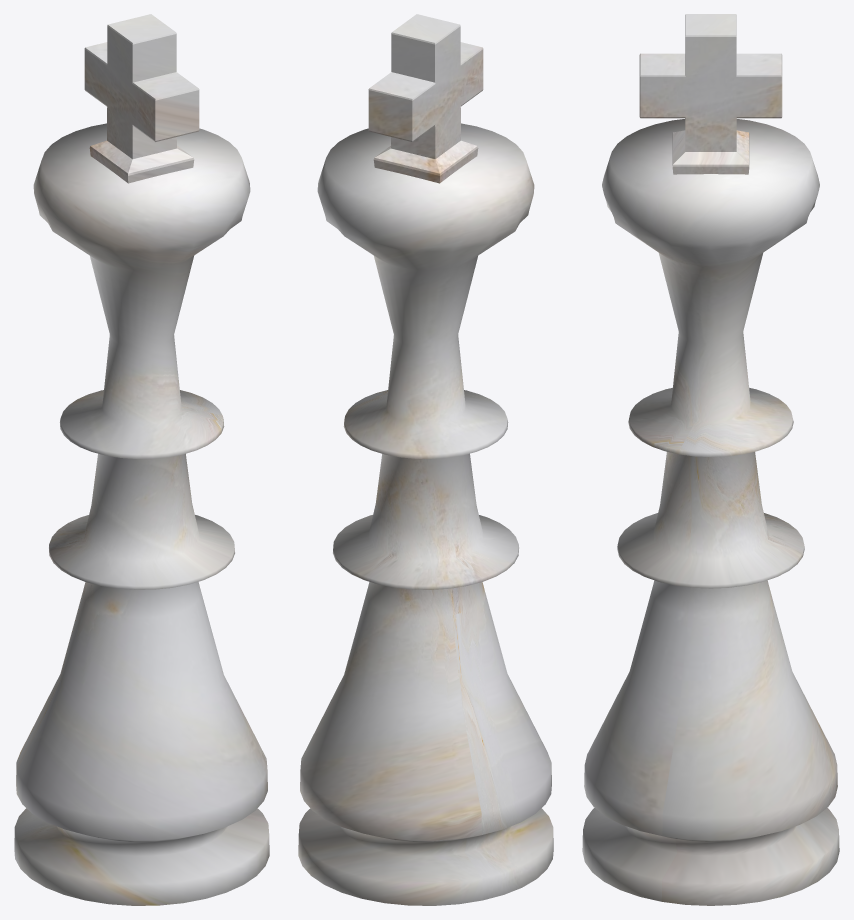
File: king.glb
3 views of the same model, side by side, from view 1: azimuth 30°, elevation 25°; view 2: azimuth 150°, elevation 25°; view 3: azimuth 270°, elevation 25° (orthographic).
Parts seen in each view (by area): view 1: Cylinder; view 2: Cylinder; view 3: Cylinder.
Boxes of the visible parts, x1,y1,x2,y2 form: Cylinder: [14, 14, 269, 905]; Cylinder: [298, 14, 553, 905]; Cylinder: [582, 14, 839, 905].
Bounding box in the file's own units: 6 × 21.29 × 6.
1 material, 1 textured.
